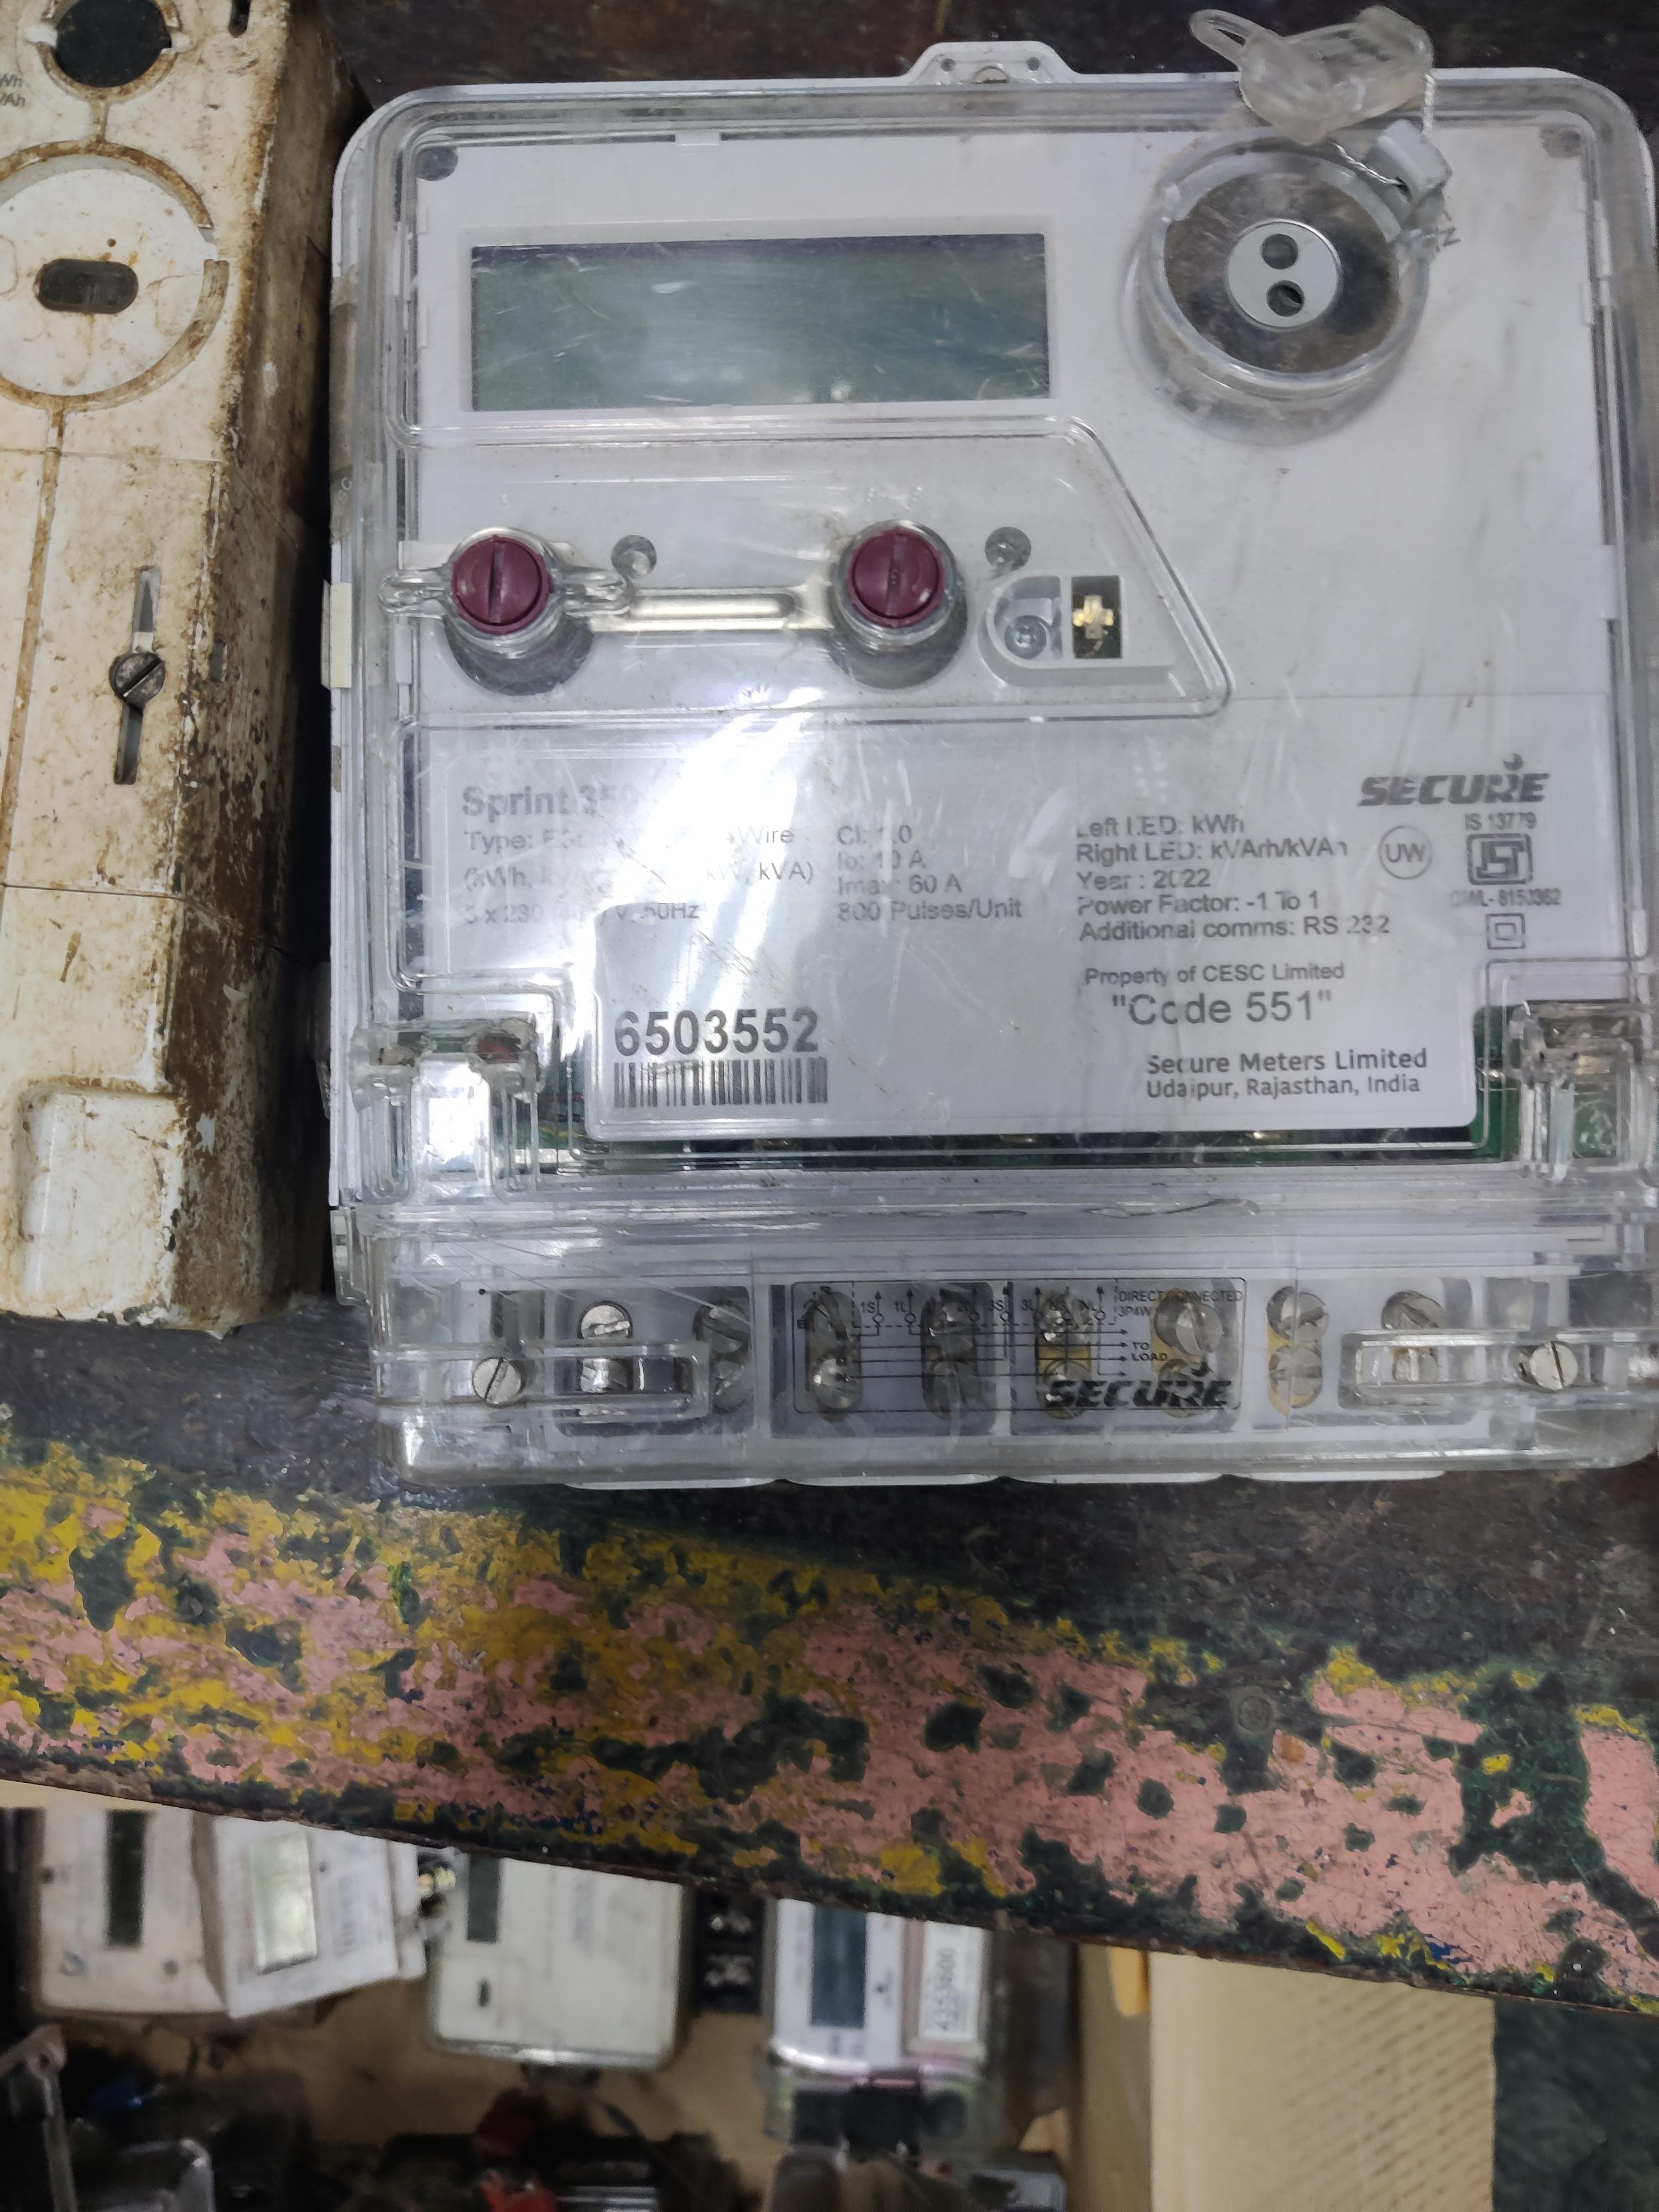meter_readings: (469, 244, 1026, 404)
serial_number: (603, 1000, 840, 1054)
